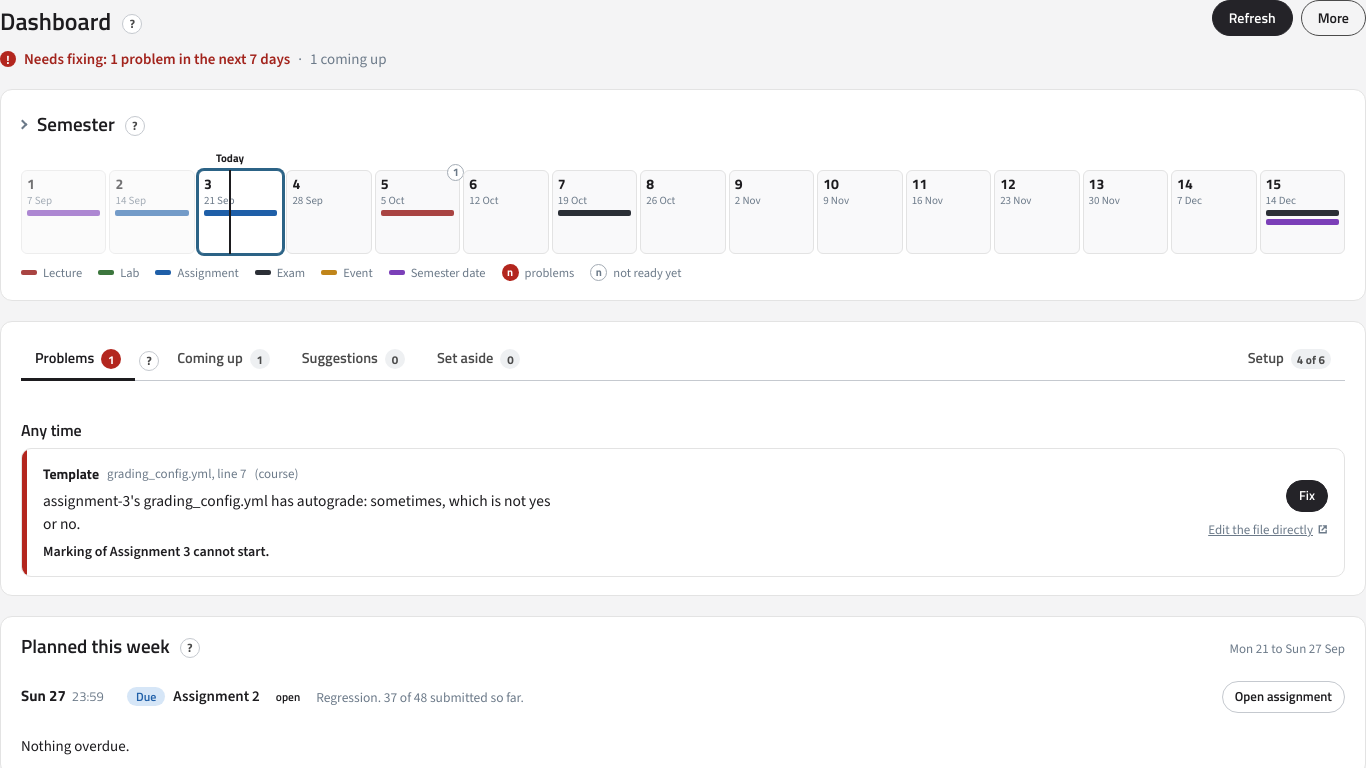
Test case: the Dashboard › expands into the full timeline by week, read-only, and collapses back
Click the button with class "chev". click: x=24, y=124
box: [13, 108, 35, 142]
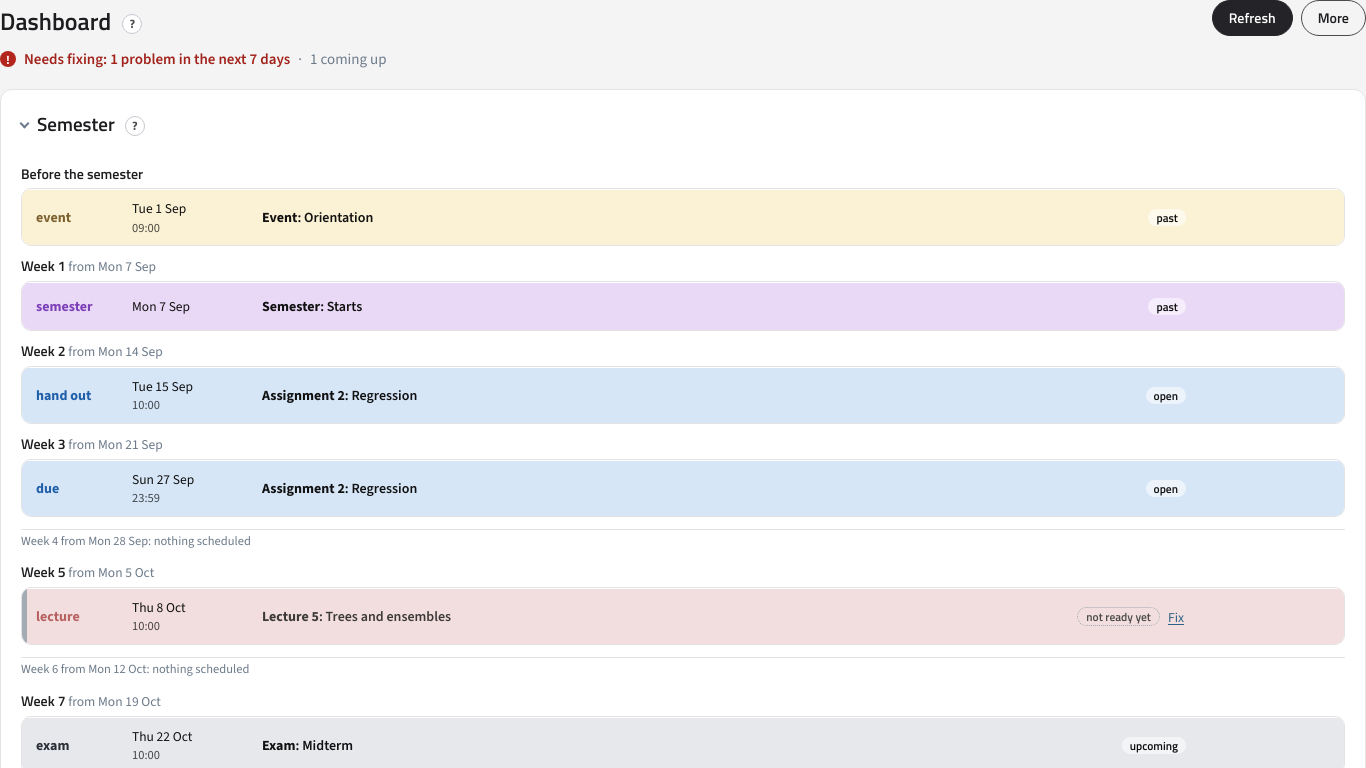
Expected: the element with class "term-strip" is gone
Expected: the link to "#schedule-s5" is shown, [262, 607, 451, 626]
Click the button with class "chev". click: x=24, y=124
box: [13, 108, 35, 142]
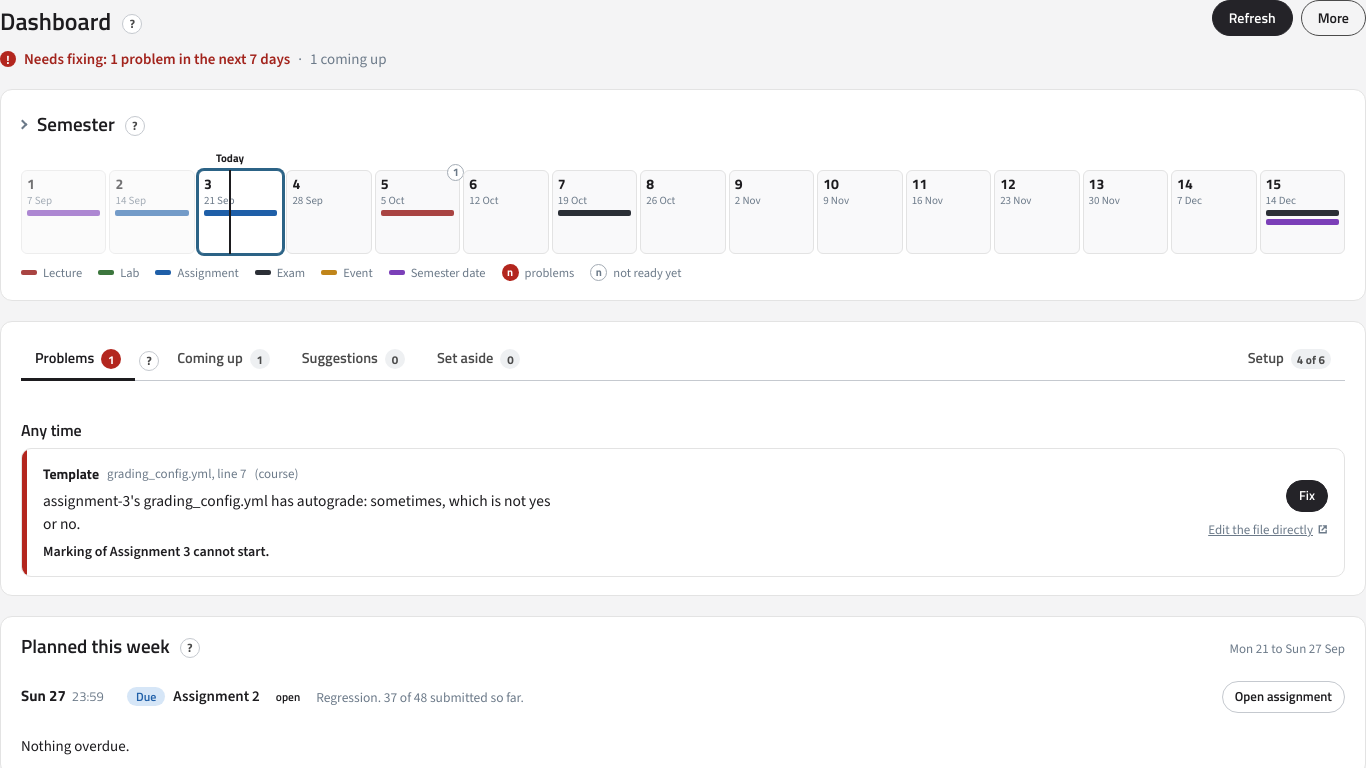
Expected: the element with class "term-strip" is shown, [21, 170, 1345, 254]
Expected: the button with class "chev" is collapsed, [13, 108, 35, 142]
